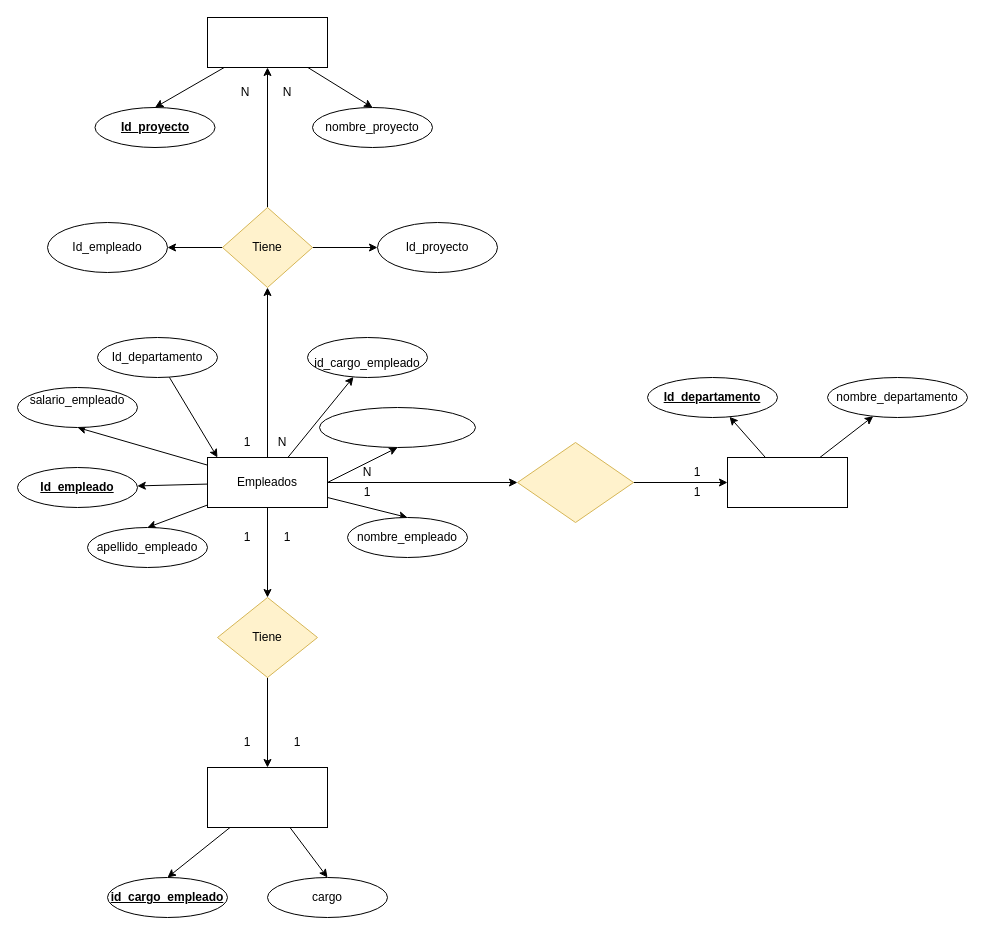
The diagram is 985 pixels wide and 935 high, and some of its shapes have lost their labels. Each missing label, with the centre of its shape:
"Cargos" goes at [267,797].
"Departamentos" goes at [787,482].
"fecha_inicio_empleado" goes at [397,427].
"Proyectos" goes at [267,42].
"Trabaja" goes at [575,482].
